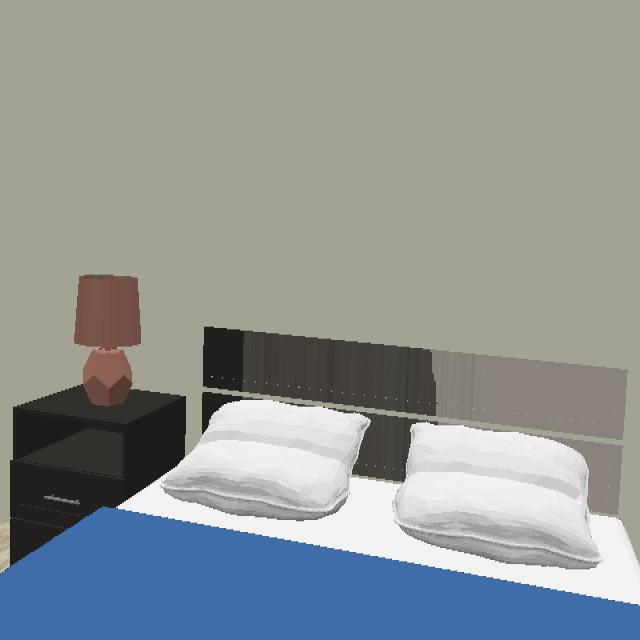bed: (0, 328, 640, 638)
lamp: (74, 275, 141, 406)
nighttable: (10, 385, 186, 562)
